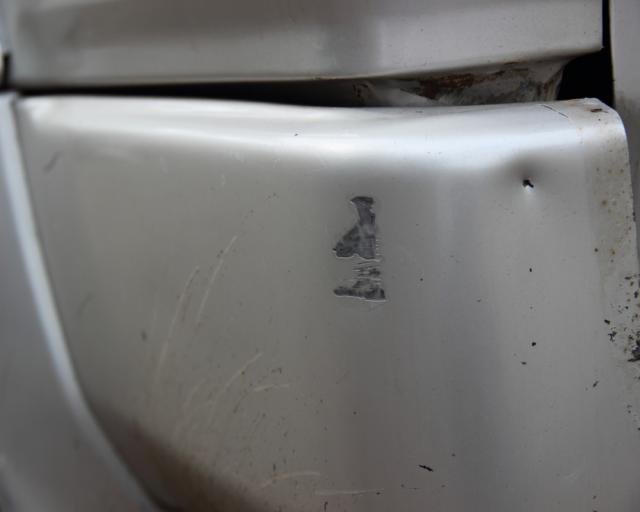dent: (500, 153, 558, 218)
scratch: (149, 234, 373, 512), (330, 194, 391, 310)
